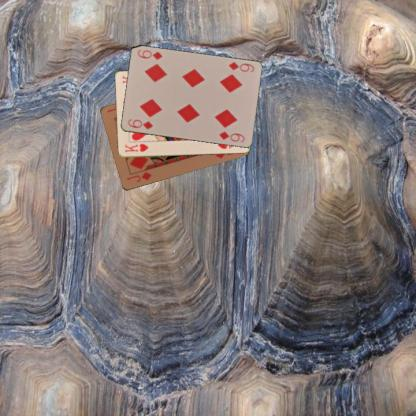6d: (226, 60, 255, 74), (126, 116, 154, 130)
Jd: (124, 169, 153, 184)
Kh: (122, 142, 150, 154)
